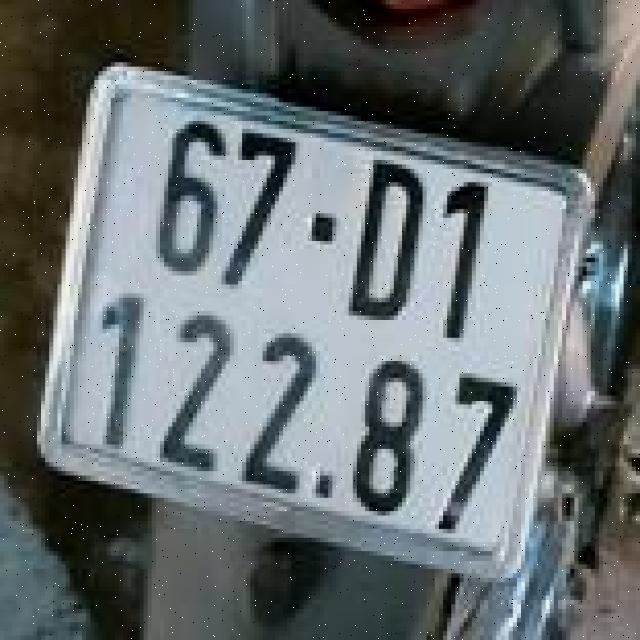1: (424, 169, 519, 350), (82, 283, 153, 462)
2: (145, 297, 251, 487), (230, 320, 333, 508)
6: (143, 108, 240, 286)
7: (419, 359, 534, 555), (207, 121, 312, 297)
8: (338, 348, 442, 524)
D: (340, 149, 447, 334)
